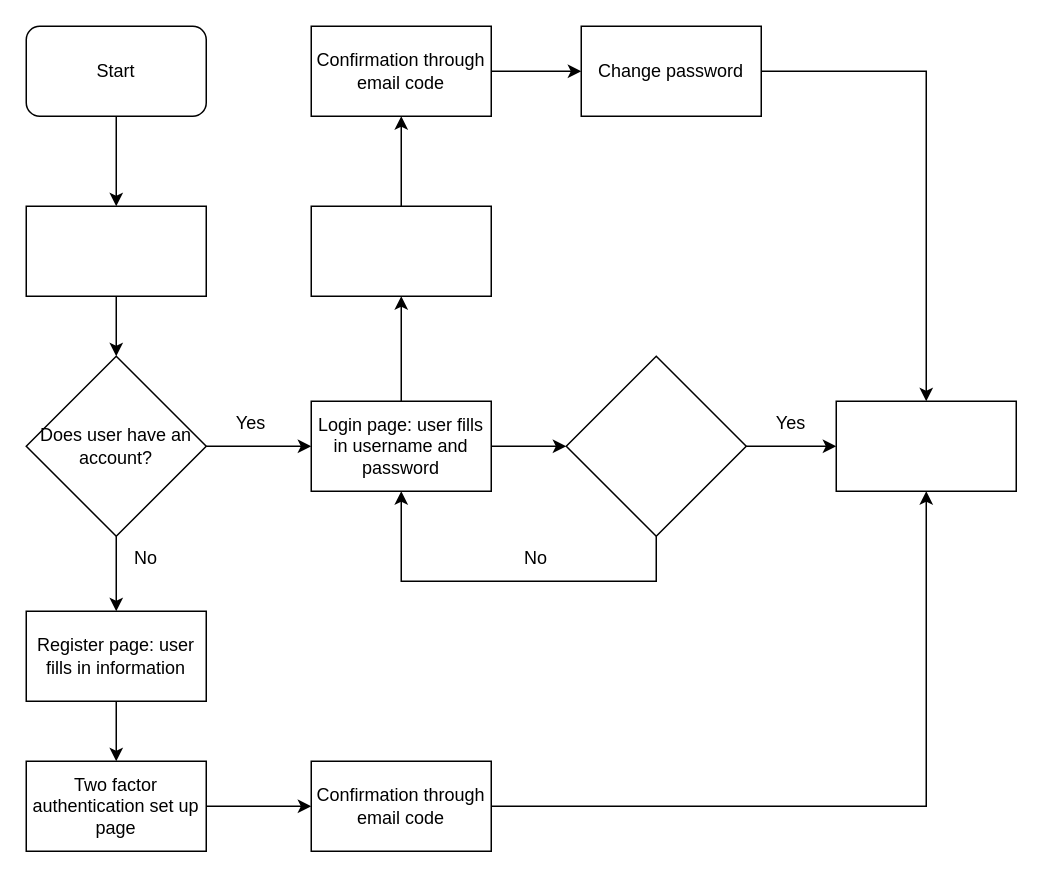
This 1043x878 diagram has some shape labels left out. The centre of each missing label's shape, as x and y in pixels:
"Did user enter correct credentials?" goes at pixel 655 445.
"Login/ Register page" goes at pixel 115 250.
"Main navigation page" goes at pixel 925 445.
"Password reset: user attempts to change password" goes at pixel 400 250.
